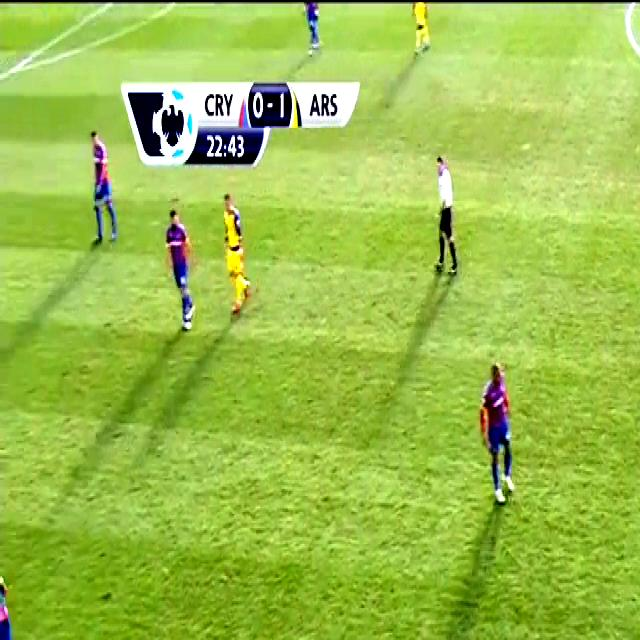referee: (425, 157, 463, 282)
soccer-player: (464, 359, 524, 510), (154, 206, 206, 343), (219, 191, 264, 323), (83, 122, 128, 251), (0, 562, 40, 640), (297, 0, 329, 57), (407, 0, 437, 57)
